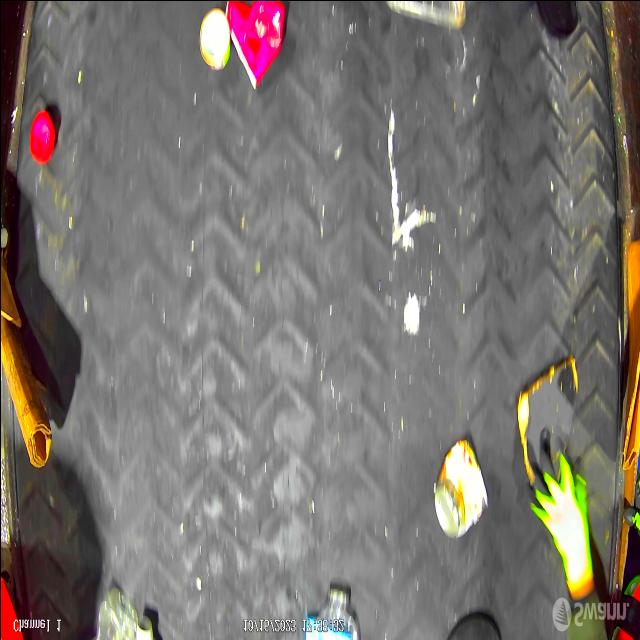can: (433, 437, 488, 540)
